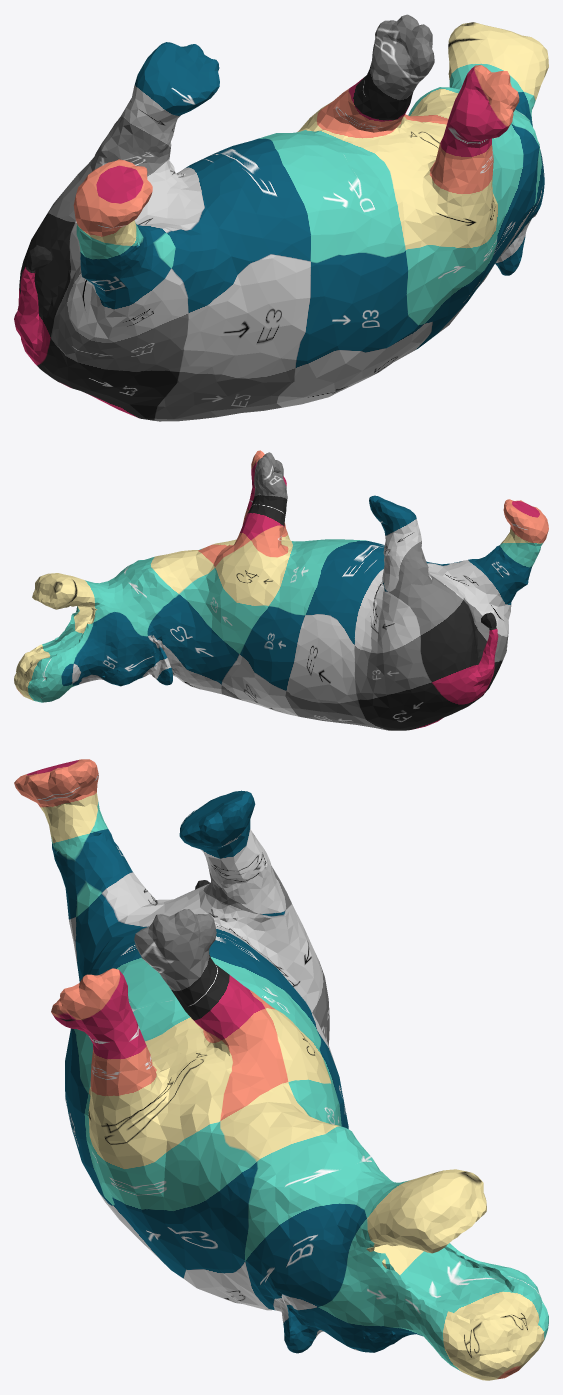
Rendered from horse_07-hippo_02.obj.
The picture shows the model from 3 angles, top to bottom: view 1: azimuth 30°, elevation 25°; view 2: azimuth 150°, elevation 25°; view 3: azimuth 270°, elevation 25°; orthographic projection. The views are drawn at different scales.
Visible parts, largest first — view 1: horse_07-hippo_02_export; view 2: horse_07-hippo_02_export; view 3: horse_07-hippo_02_export.
Part boxes in pixels (x1,y1,x2,y2): horse_07-hippo_02_export: (14,14,548,421); horse_07-hippo_02_export: (14,450,548,730); horse_07-hippo_02_export: (14,759,548,1380).
Size of the model in its own units: 0.8747 by 0.4839 by 0.5882.
